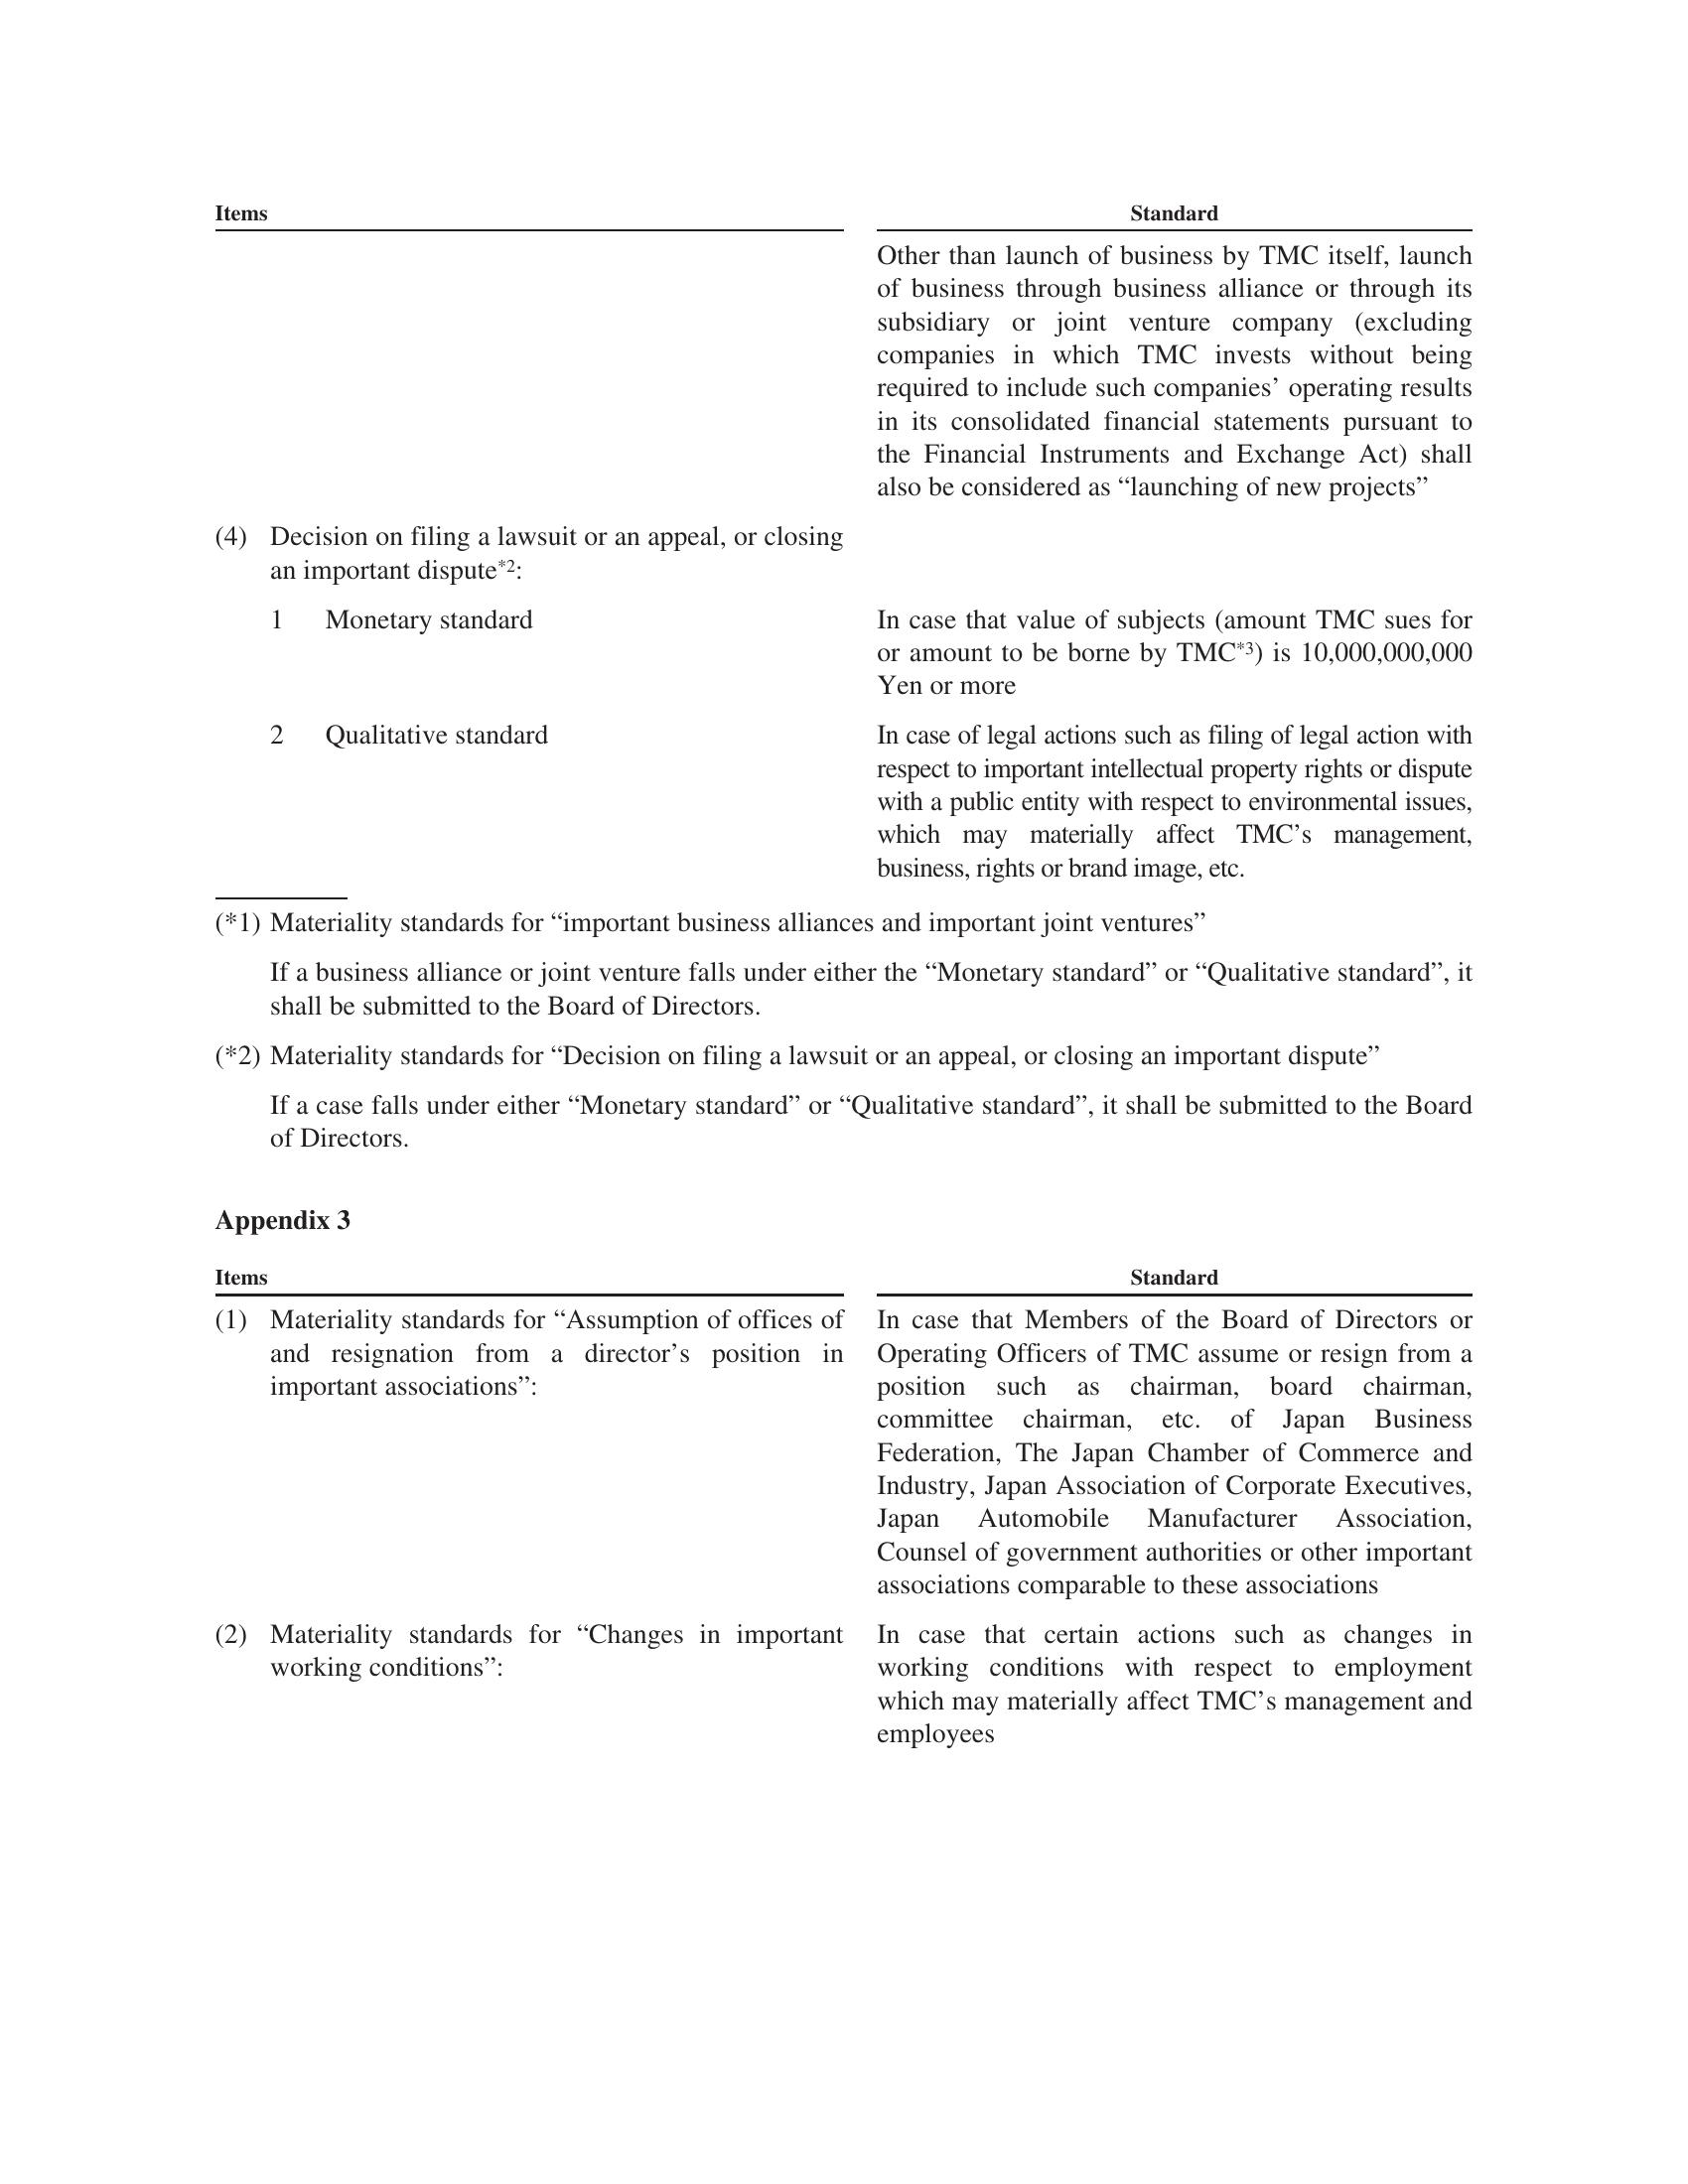Footer: (0, 1989, 1688, 2184)
Header: (0, 0, 1688, 170)
Table: (160, 191, 1512, 890), (94, 1236, 1500, 1789)
